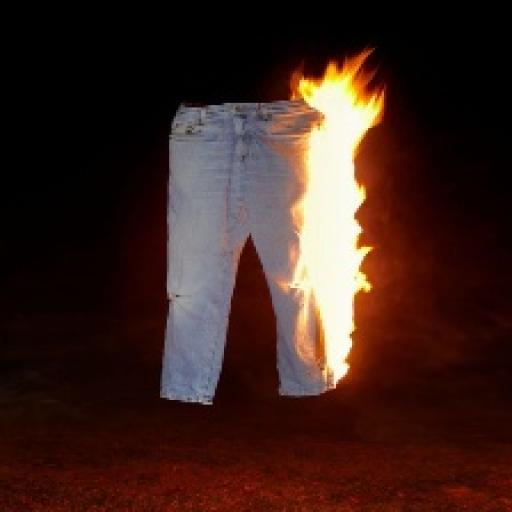fire and smoke: (290, 50, 382, 384)
